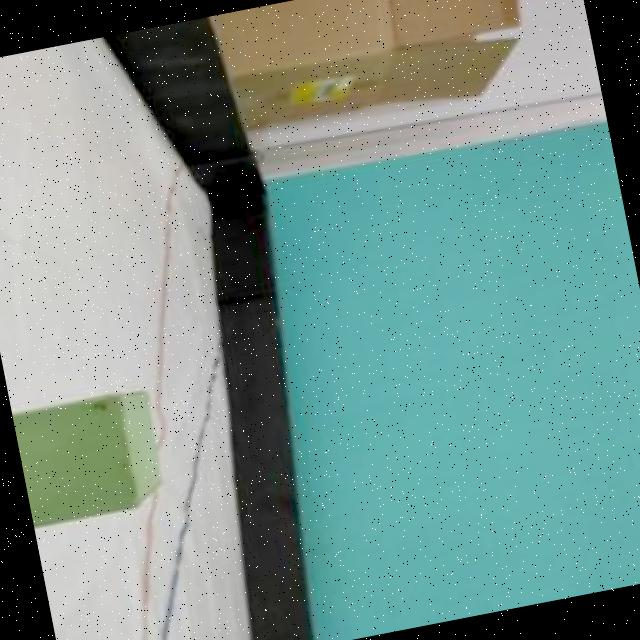greenbox: (12, 384, 172, 530)
